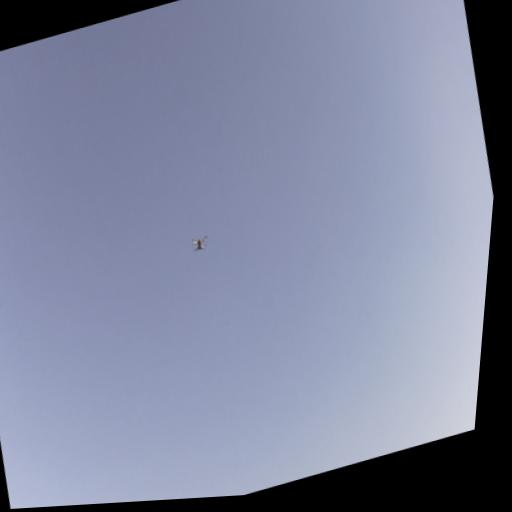drones: (184, 228, 216, 262)
